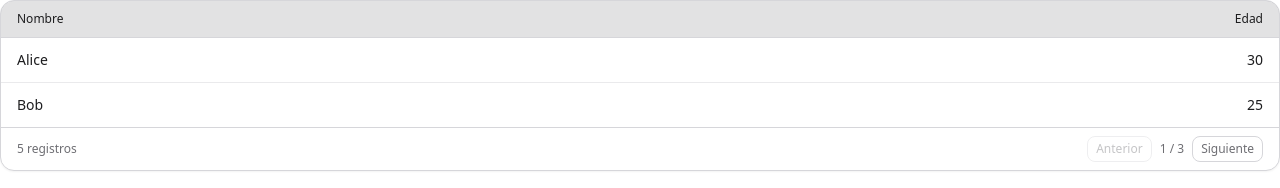
it: DataTable › disables Siguiente button on last page
Click the button "Siguiente".
click(1228, 149)  # box [1192, 136, 1263, 162]
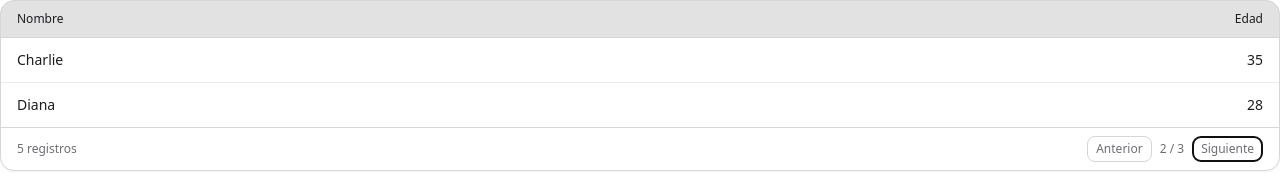
Click the button "Siguiente".
click(1228, 149)  # box [1192, 136, 1263, 162]
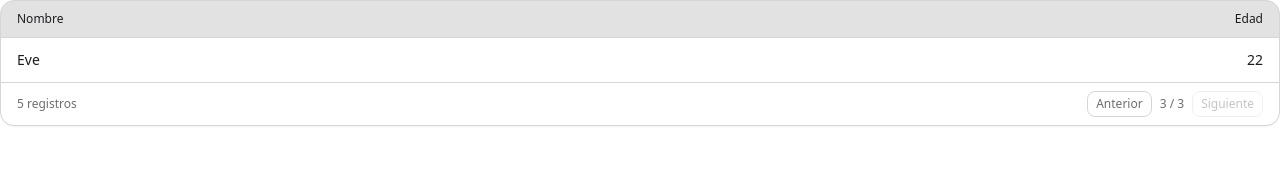
Expected: the text "3 / 3" is shown, [1160, 96, 1184, 112]
Expected: the button "Siguiente" is disabled, [1192, 91, 1263, 117]
